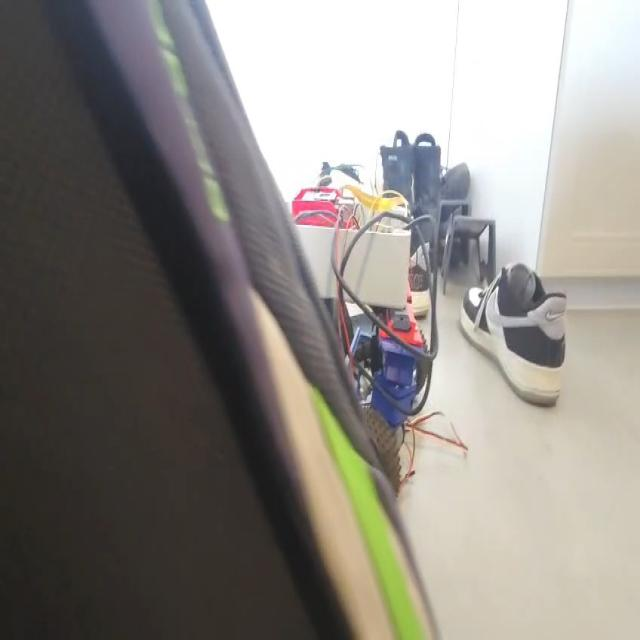Robot: (289, 159, 431, 502)
